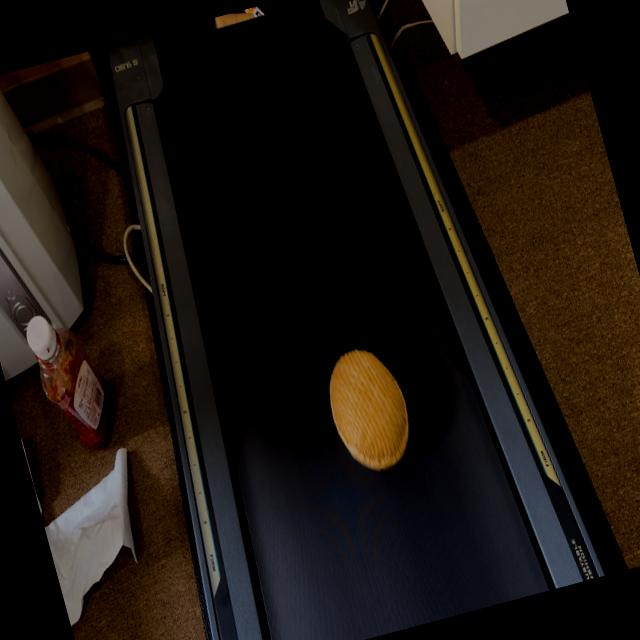Trash: (314, 336, 424, 482)
